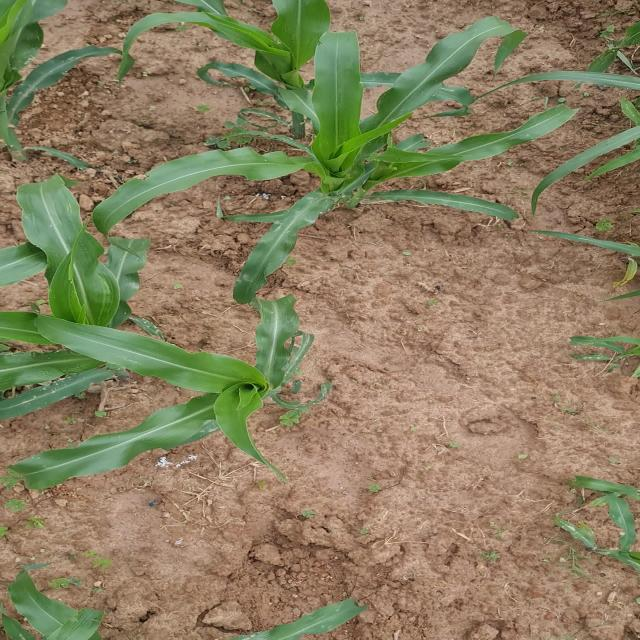maize: (15, 192, 314, 452), (204, 2, 498, 245), (503, 20, 640, 266), (0, 575, 338, 640), (0, 4, 136, 163)
weed: (572, 455, 640, 570), (580, 331, 640, 423)
